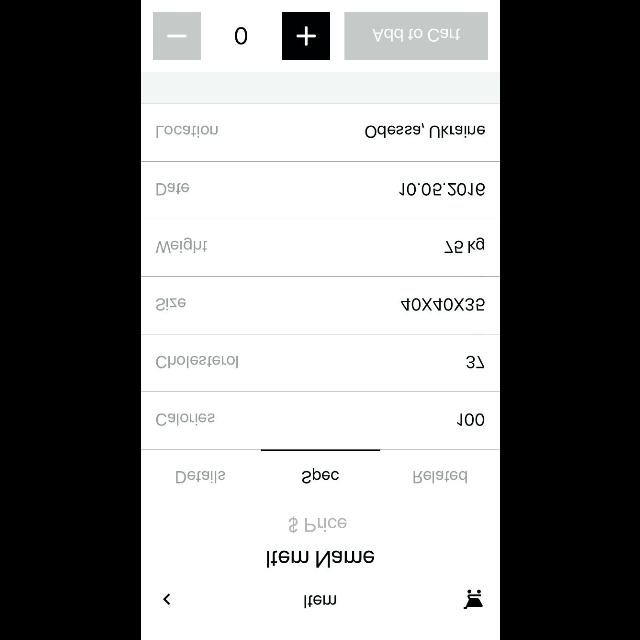icon: (282, 12, 330, 60), (153, 12, 201, 60), (463, 589, 483, 609), (162, 593, 170, 605)
text: (364, 123, 486, 139), (266, 549, 374, 567), (401, 298, 485, 312), (155, 355, 237, 369), (399, 182, 485, 195), (288, 516, 346, 532), (154, 237, 208, 253), (155, 125, 217, 138), (444, 236, 484, 254), (413, 471, 467, 484), (175, 470, 225, 484), (156, 414, 214, 426), (301, 468, 339, 484), (304, 594, 336, 608), (156, 182, 188, 195), (457, 412, 485, 426), (155, 298, 185, 310), (235, 27, 248, 45), (466, 356, 484, 368)
textbutton: (344, 12, 488, 60)
